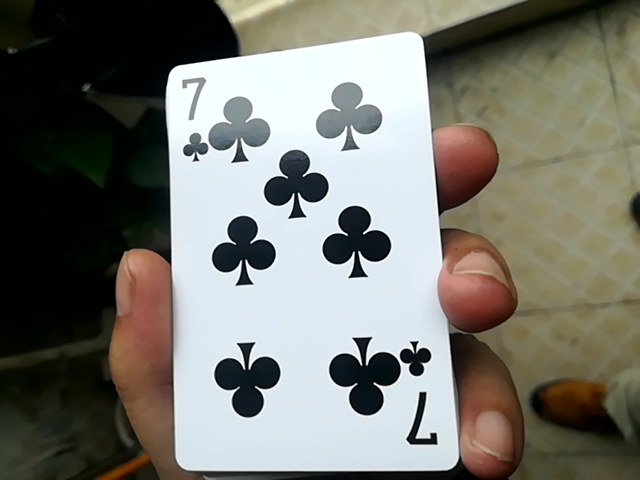mh 7: (147, 38, 461, 478)
